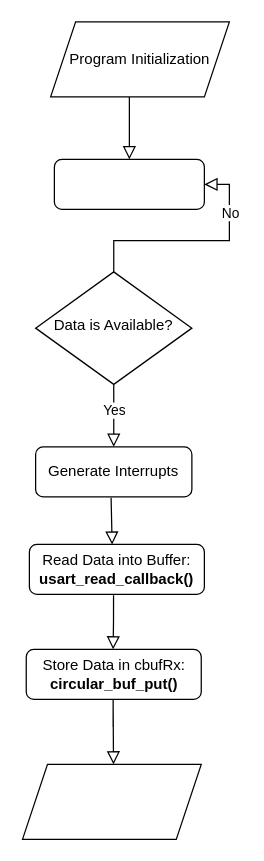
Image size: 264x861. Some labels were removed from this diagram. The box of each missing label's shape, as (x1, y1, x2, y2) in pixels:
End of Program: Character Stored for Futher Processing: (21, 763, 201, 839)
Wait for User Input: (53, 158, 204, 209)
